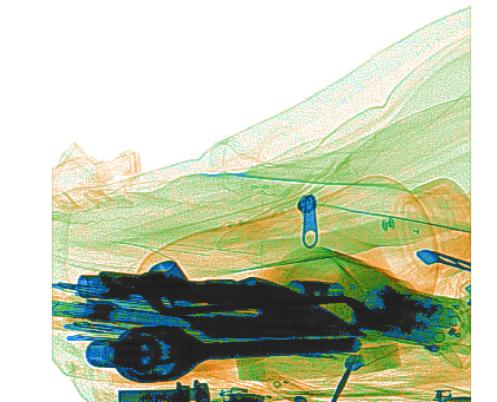battery: (358, 285, 450, 352)
